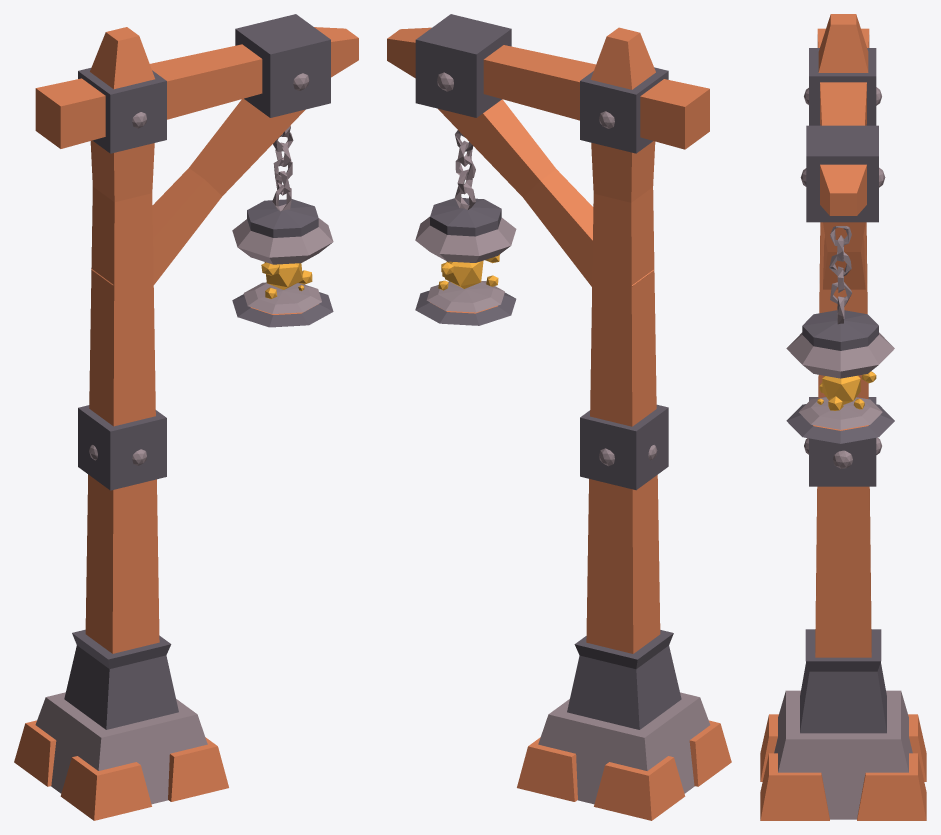
The model's file is LightBench.fbx.
3 views of the same model, side by side, from view 1: azimuth 30°, elevation 25°; view 2: azimuth 150°, elevation 25°; view 3: azimuth 270°, elevation 25° (orthographic). The views are drawn at different scales.
Visible parts, largest first — view 1: Светило; view 2: Светило; view 3: Светило.
Boxes of the visible parts, x1,y1,x2,y2 form: Светило: (14,14,358,820); Светило: (387,14,731,820); Светило: (760,14,926,820).
Bounding box in the file's own units: 88.97 × 207 × 40.57.
